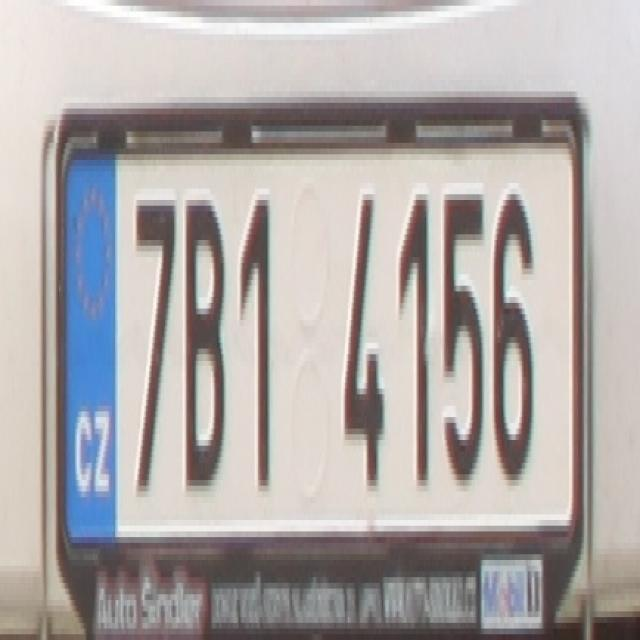1: (238, 182, 278, 514), (397, 188, 428, 486)
4: (339, 182, 384, 474)
5: (442, 199, 482, 492)
6: (490, 188, 532, 486)
7: (131, 194, 174, 503)
B: (183, 195, 224, 480)
